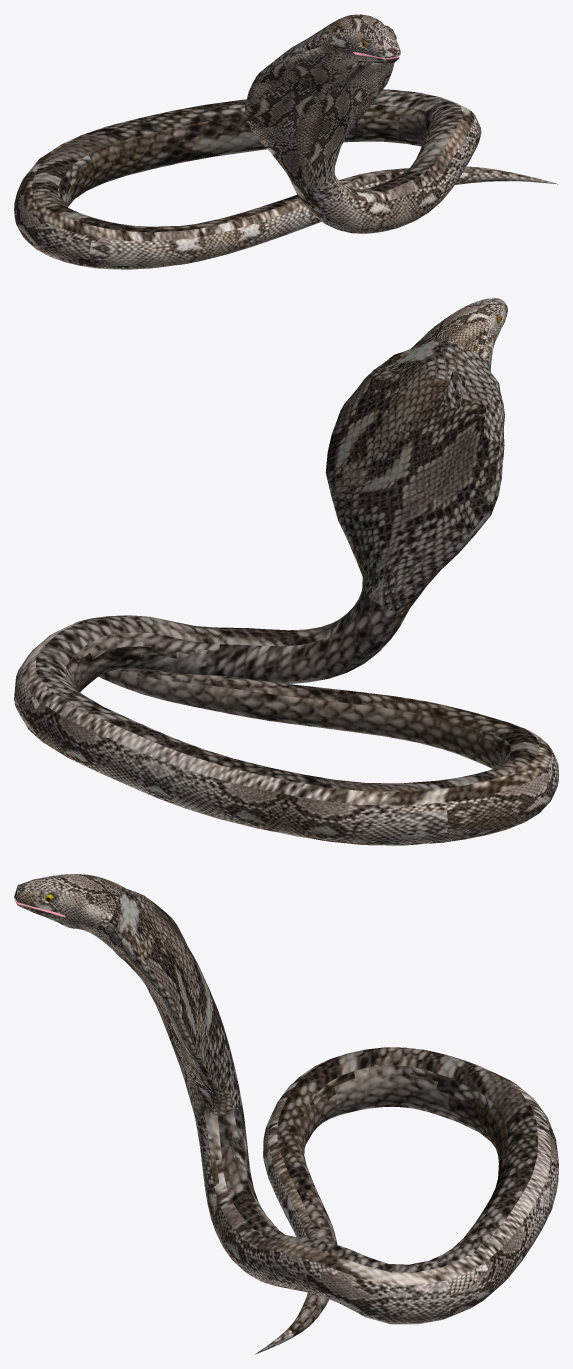
File: king-cobra.glb
3 renders of one model, top to bottom at view 1: azimuth 30°, elevation 25°; view 2: azimuth 150°, elevation 25°; view 3: azimuth 270°, elevation 25°, orthographic. The views are drawn at different scales.
Parts seen in each view (by area): view 1: Cobra_13 - Default_0, Cobra_09 - Default_0, Cobra_08 - Default_0; view 2: Cobra_09 - Default_0, Cobra_13 - Default_0, Cobra_08 - Default_0; view 3: Cobra_09 - Default_0, Cobra_13 - Default_0, Cobra_08 - Default_0.
Part boxes in pixels (x1,y1,x2,y2): Cobra_13 - Default_0: (14,32,557,269); Cobra_09 - Default_0: (32,18,513,232); Cobra_08 - Default_0: (320,14,400,65); Cobra_09 - Default_0: (35,339,538,791); Cobra_13 - Default_0: (14,445,558,845); Cobra_08 - Default_0: (416,298,507,364); Cobra_09 - Default_0: (106,885,537,1337); Cobra_13 - Default_0: (93,928,558,1354); Cobra_08 - Default_0: (14,874,120,935).
Size of what is drawn, in the model's own units: 477 by 279 by 418.
Materials: 5 (4 with a texture image).
